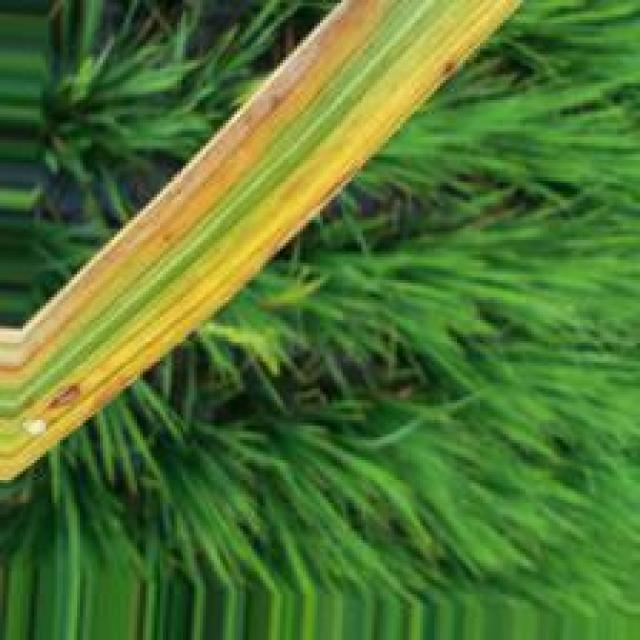Bacterial_Leaf_Blight: (0, 2, 516, 473), (0, 3, 389, 387)
